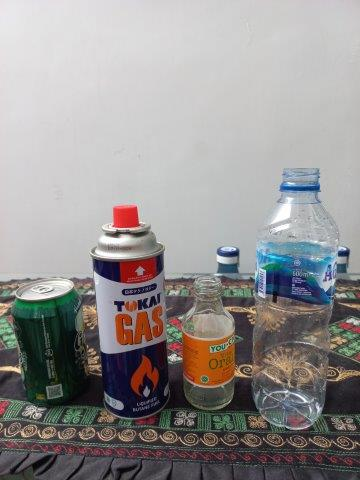botolkaca: (184, 277, 235, 410)
botolplastik: (252, 167, 339, 426)
kaleng: (91, 206, 170, 419), (11, 278, 86, 407)
